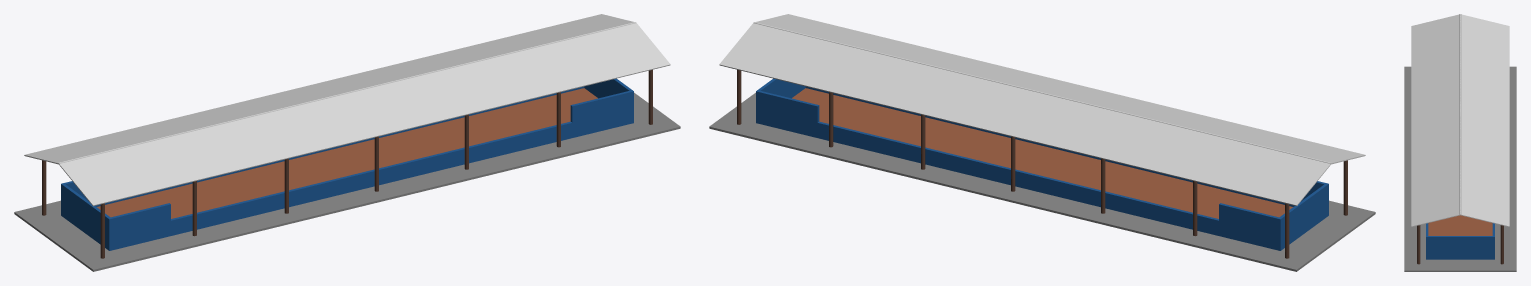
The model's file is campo_bocha_coberta.glb.
3 renders of one model, left to right at view 1: azimuth 30°, elevation 25°; view 2: azimuth 150°, elevation 25°; view 3: azimuth 270°, elevation 25°, orthographic. The views are drawn at different scales.
Bounding box in the file's own units: 30 × 3.84 × 7.
